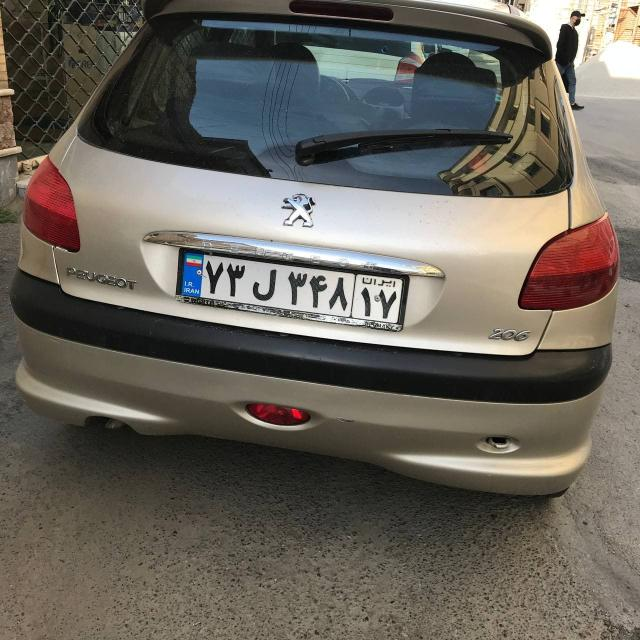Plates: (179, 252, 404, 324)
